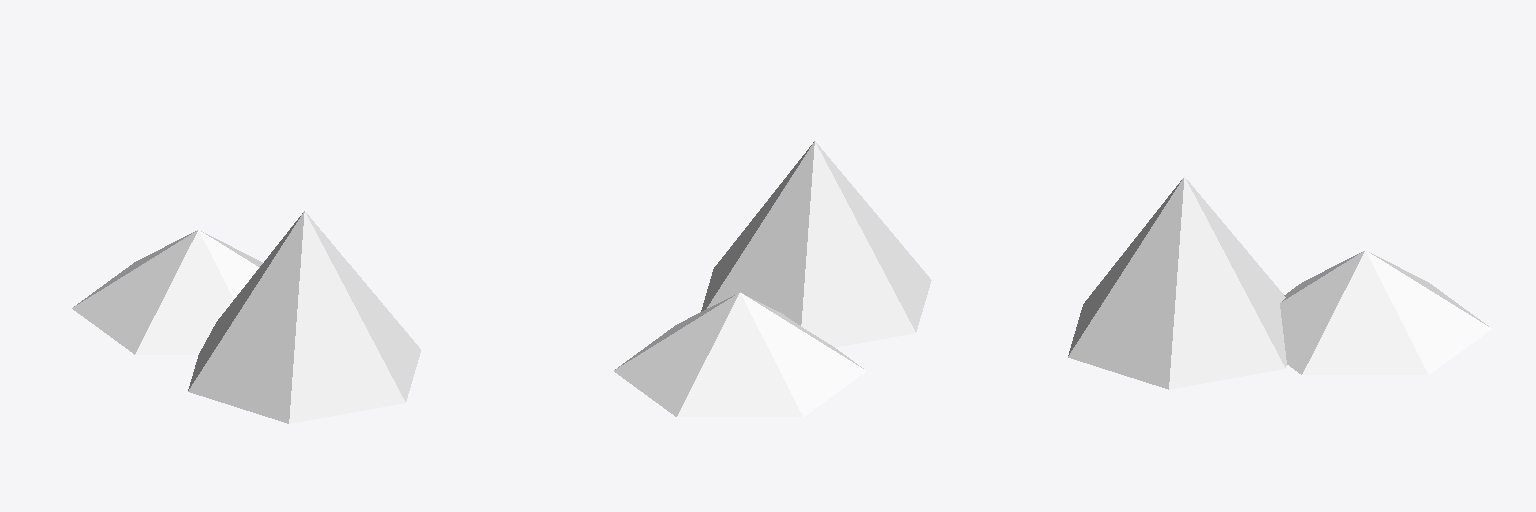
The model's file is Beaker_Solid.obj.
3 views of the same model, side by side, from view 1: azimuth 30°, elevation 25°; view 2: azimuth 150°, elevation 25°; view 3: azimuth 270°, elevation 25° (orthographic).
Visible parts, largest first — view 1: Mesh1 Model; view 2: Mesh1 Model; view 3: Mesh1 Model.
Boxes of the visible parts, <box> form: Mesh1 Model: <box>72,211,420,423</box>; Mesh1 Model: <box>614,141,931,416</box>; Mesh1 Model: <box>1068,176,1491,389</box>.
Size of the model in its own units: 0.04 by 0.0279 by 0.0669.